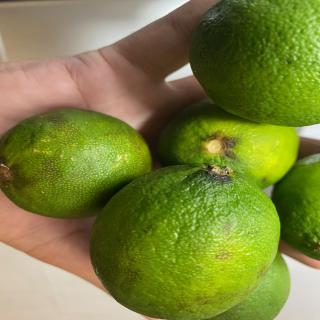Chilli: (89, 162, 281, 319), (0, 108, 153, 219)
Lemon: (188, 0, 320, 127), (157, 100, 300, 190), (205, 251, 291, 319), (272, 152, 320, 262)
